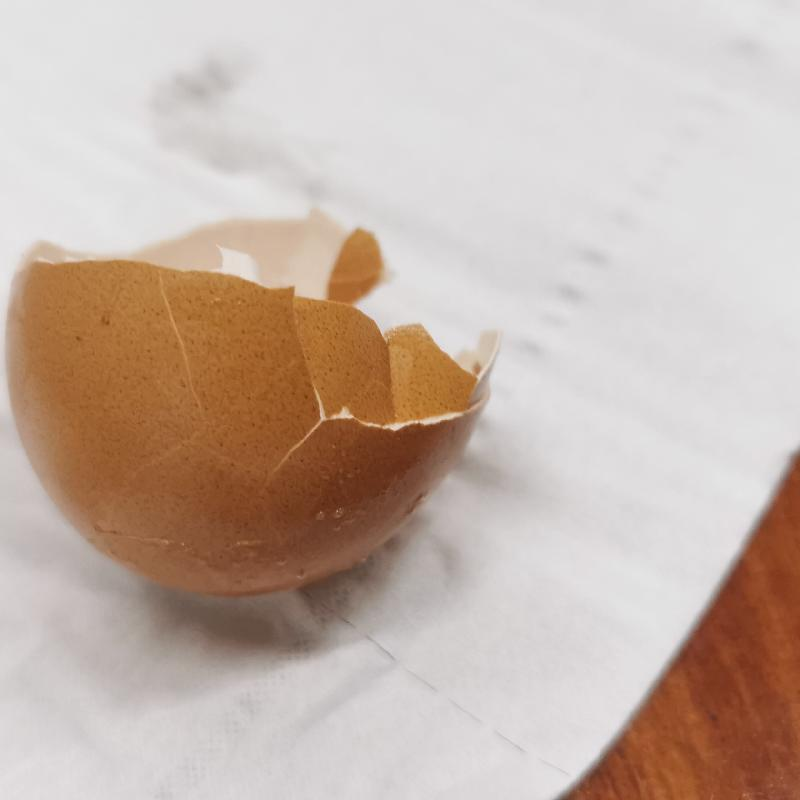eggshell: (9, 211, 503, 598)
